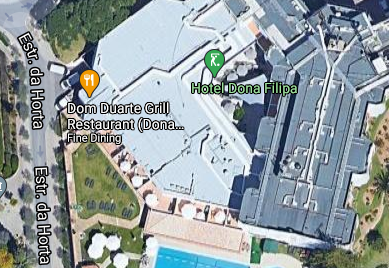pool: (153, 247, 239, 267)
